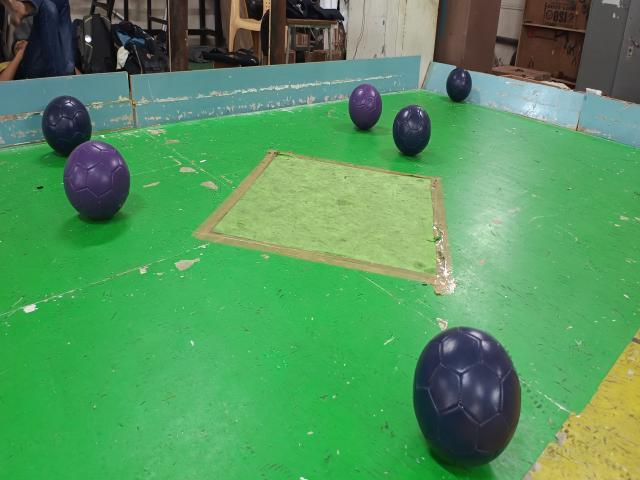jambhalya: (64, 140, 130, 220), (349, 83, 382, 130)
kaalyya: (414, 327, 521, 467), (41, 95, 91, 157), (392, 105, 431, 157), (446, 68, 471, 102)
